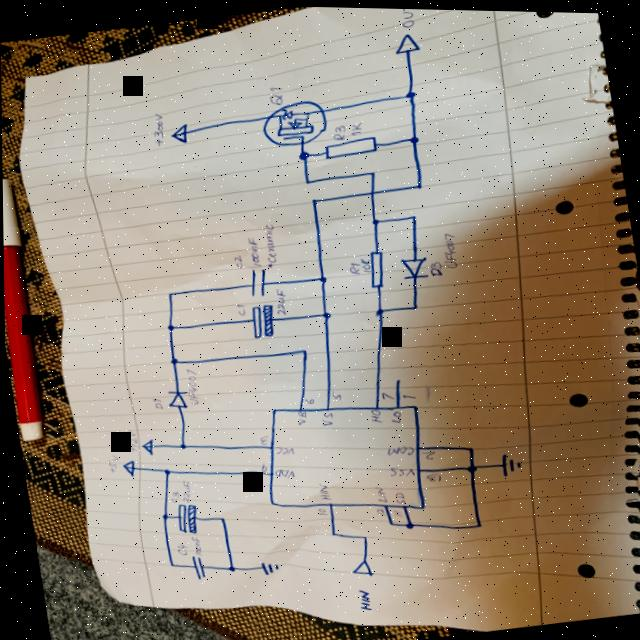capacitor: (244, 301, 275, 338), (172, 499, 201, 535), (246, 265, 270, 297), (188, 552, 206, 580)
crossover: (365, 187, 377, 195)
diode: (398, 252, 432, 279), (164, 387, 189, 410)
ground: (497, 448, 522, 475), (256, 557, 279, 576)
junction: (296, 148, 310, 160), (406, 131, 420, 143), (464, 460, 477, 472), (403, 87, 417, 98), (372, 304, 386, 315), (319, 308, 332, 318), (402, 518, 414, 528), (317, 272, 329, 282), (167, 355, 178, 365), (176, 440, 187, 450), (369, 214, 380, 224), (366, 166, 377, 176), (215, 513, 227, 522), (225, 563, 236, 572), (158, 511, 169, 520), (164, 322, 175, 331), (464, 442, 475, 451), (308, 194, 319, 203), (297, 345, 309, 353), (471, 519, 483, 527), (301, 176, 313, 184), (413, 180, 424, 188), (326, 528, 337, 536), (161, 466, 171, 474), (359, 531, 369, 539), (408, 211, 418, 219), (409, 301, 420, 308), (165, 289, 174, 296), (166, 560, 175, 567), (385, 518, 394, 525)
resistor: (322, 132, 380, 159), (364, 247, 388, 287)
source: (168, 121, 190, 144), (119, 457, 137, 478), (139, 437, 154, 455)
terminal: (391, 28, 422, 53), (348, 555, 373, 577)
text: (259, 220, 281, 267), (438, 229, 460, 267), (147, 111, 169, 147), (183, 366, 201, 403), (244, 233, 263, 267), (386, 462, 415, 478), (271, 287, 288, 314), (353, 586, 372, 610), (383, 441, 413, 456), (266, 82, 285, 104), (123, 426, 139, 451), (397, 7, 418, 26), (272, 465, 295, 479), (330, 123, 348, 140), (316, 480, 331, 500), (104, 452, 119, 472), (178, 479, 191, 502), (347, 119, 365, 135), (188, 534, 202, 554), (273, 442, 294, 455), (366, 406, 382, 423), (231, 300, 247, 317), (427, 258, 443, 275), (373, 483, 387, 502), (319, 409, 335, 425), (423, 470, 443, 482), (388, 407, 402, 423), (294, 408, 308, 424), (391, 488, 405, 503), (173, 541, 187, 556), (419, 447, 436, 459), (359, 254, 371, 271), (347, 259, 361, 273), (232, 252, 244, 268), (150, 396, 163, 409), (379, 388, 393, 400), (168, 489, 180, 502), (303, 394, 316, 404), (258, 433, 269, 444), (400, 390, 415, 398), (315, 505, 326, 515), (331, 390, 342, 399), (391, 506, 402, 515), (374, 505, 383, 514), (259, 460, 266, 471)
transistor: (259, 96, 328, 149)
